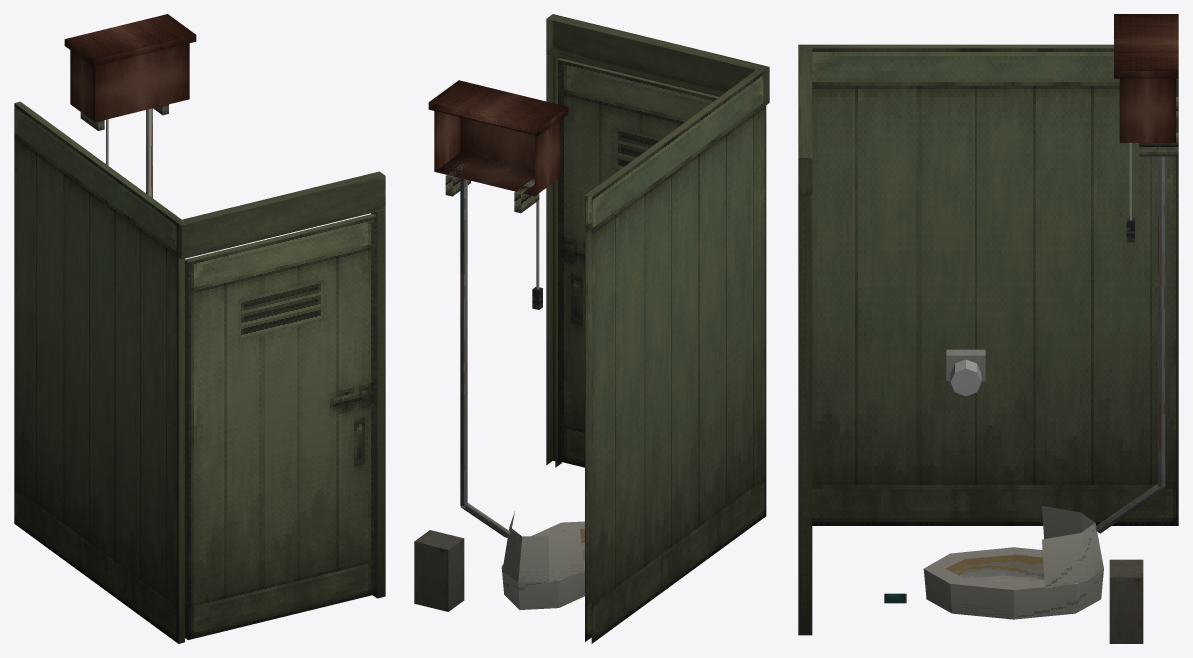
The model's file is prop_toilet_stall-0.glb.
The picture shows the model from 3 angles, left to right: view 1: azimuth 30°, elevation 25°; view 2: azimuth 150°, elevation 25°; view 3: azimuth 270°, elevation 25°; orthographic projection. The views are drawn at different scales.
Parts seen in each view (by area): view 1: prop_toilet_stall-0; view 2: prop_toilet_stall-0; view 3: prop_toilet_stall-0.
Part boxes in pixels (box(x1,y1,x2,y2)): prop_toilet_stall-0: box(14, 14, 385, 643); prop_toilet_stall-0: box(414, 14, 769, 643); prop_toilet_stall-0: box(798, 14, 1178, 643).
Bounding box in the file's own units: 0.95 × 2.18 × 1.35.
Materials: 11 (11 with a texture image).
